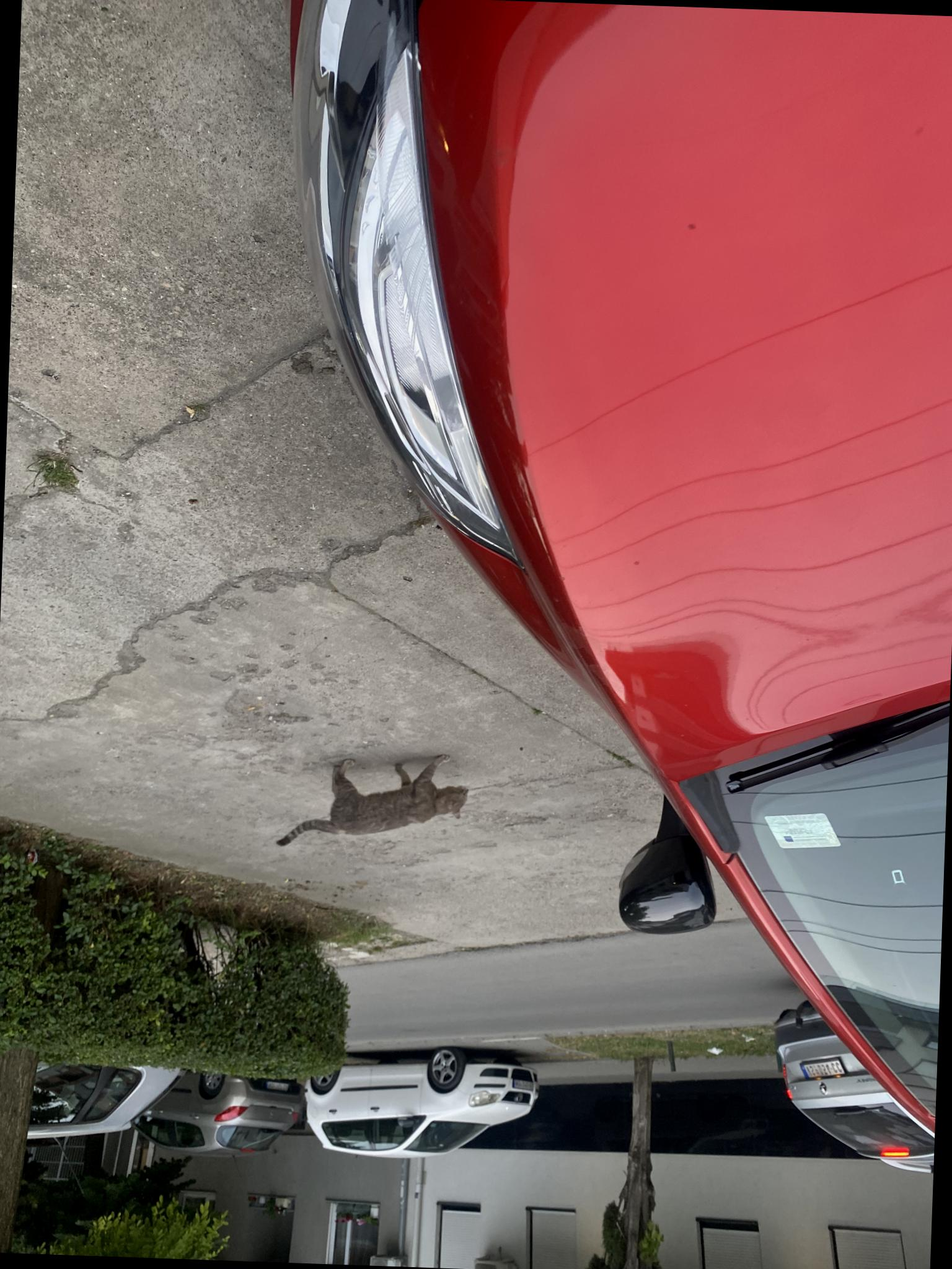macka: (277, 747, 471, 851)
